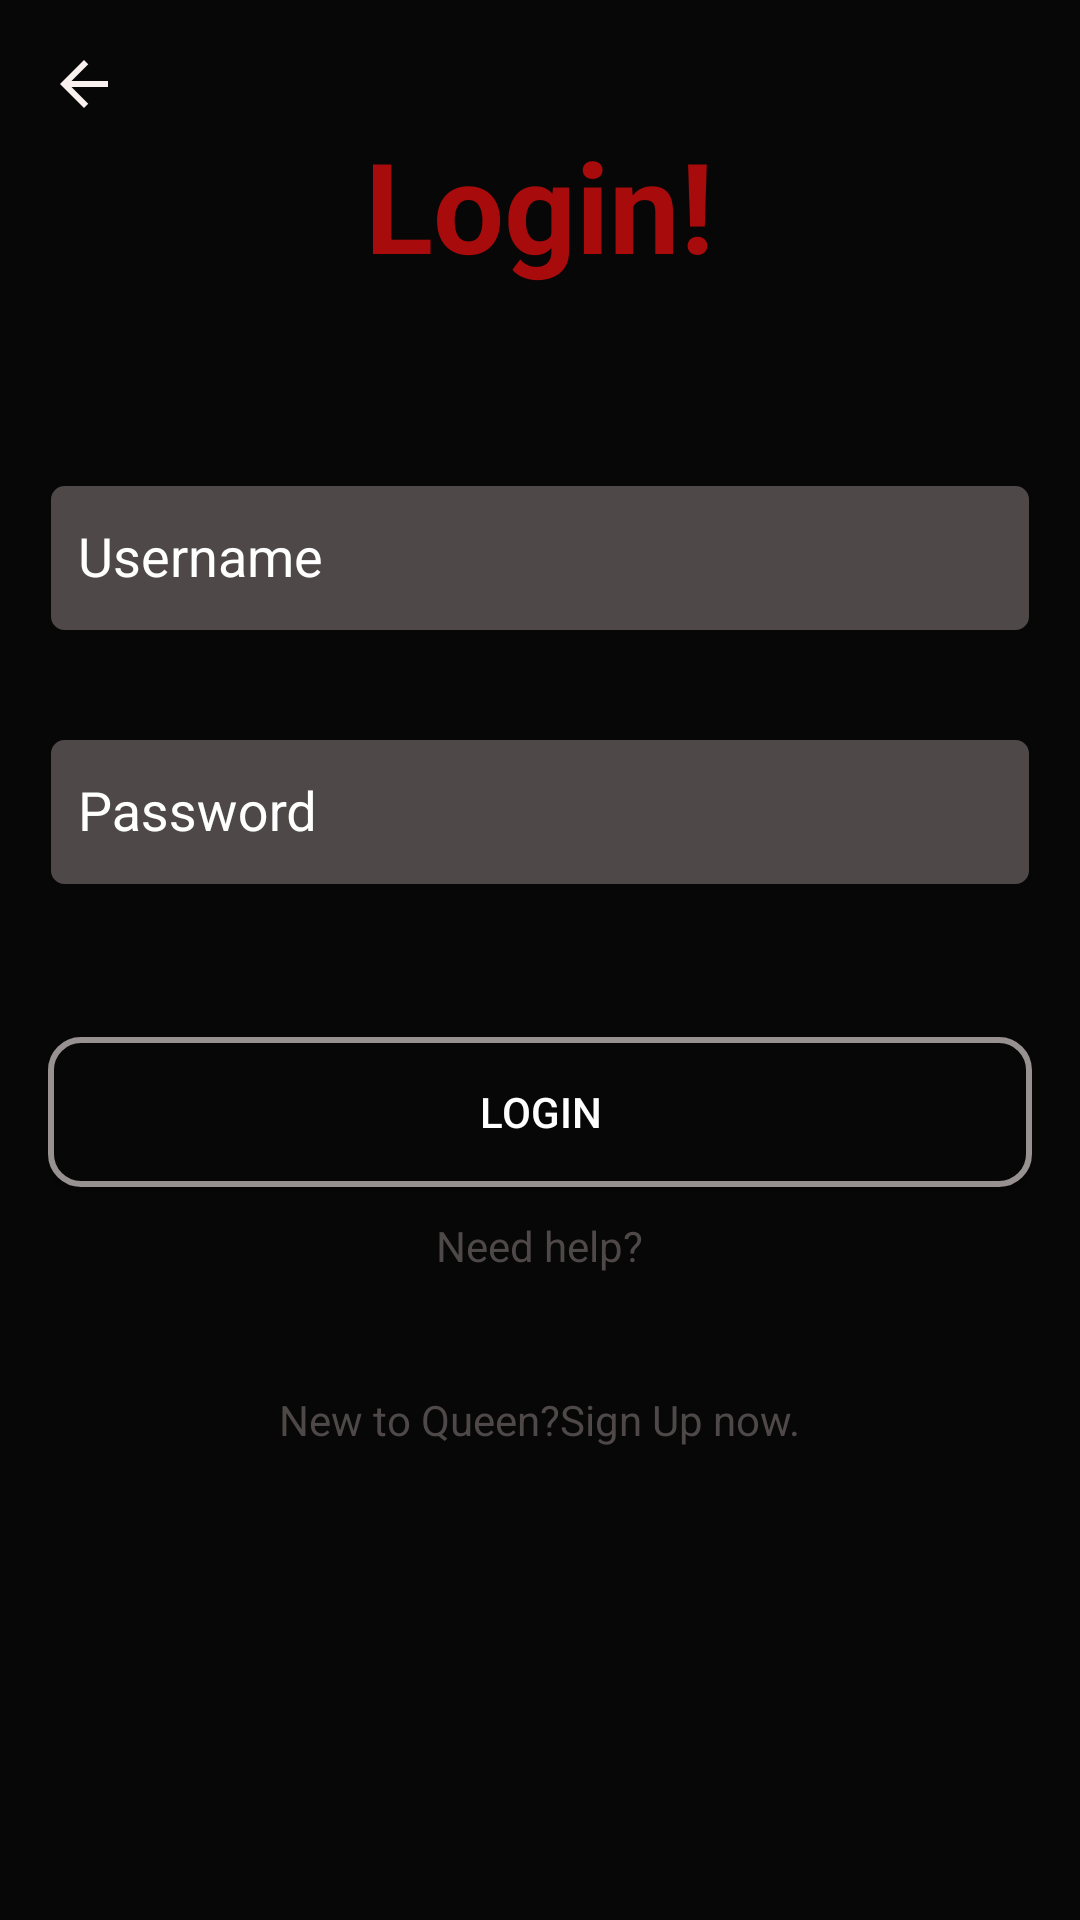

Locate icon controls on the screen. Image size 1080 x 1920, boxes as bbox=(x1, y1, x2, y2).
back arrow: bbox=(60, 60, 108, 108)
